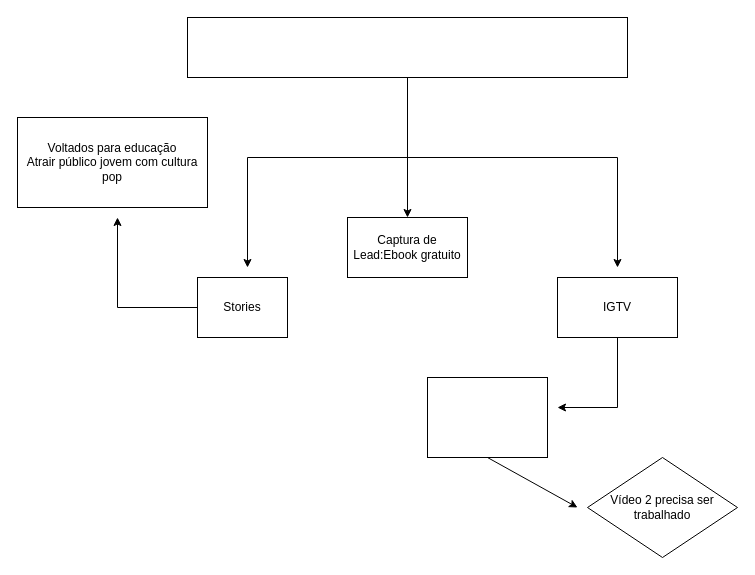
This 755x575 diagram has some shape labels left out. Here are the shapes that lost their labels. From the top down, the centre of each, then its label:
At point (407, 47): "Campanha 1:Educacional".
At point (487, 417): "Vídeo 1: Do desenho a Modelagem Vídeo 2:Entendendo conceitos com Modelagem".
